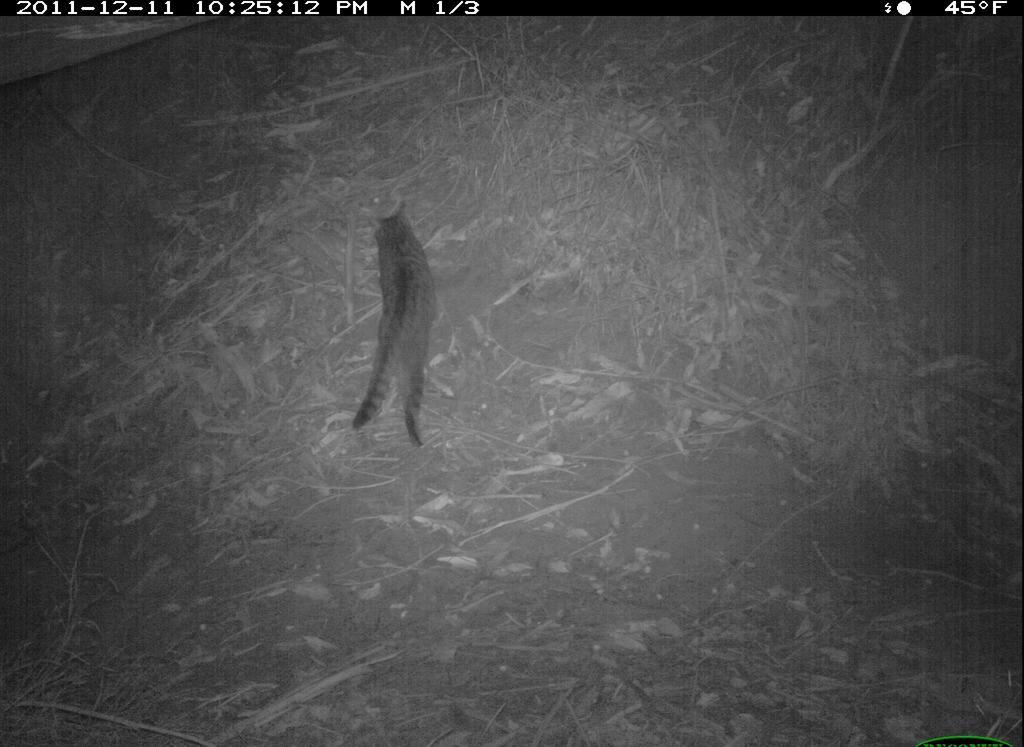cat: (345, 197, 448, 455)
